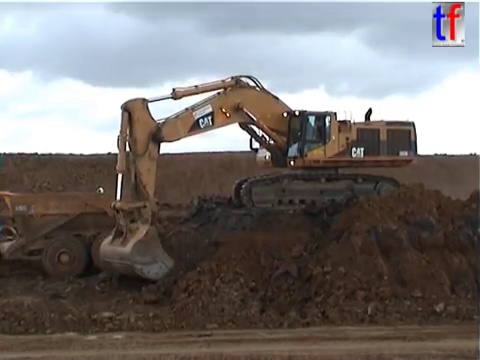excavator: (88, 72, 421, 282)
truck: (1, 187, 161, 280)
worker: (93, 181, 106, 206)
